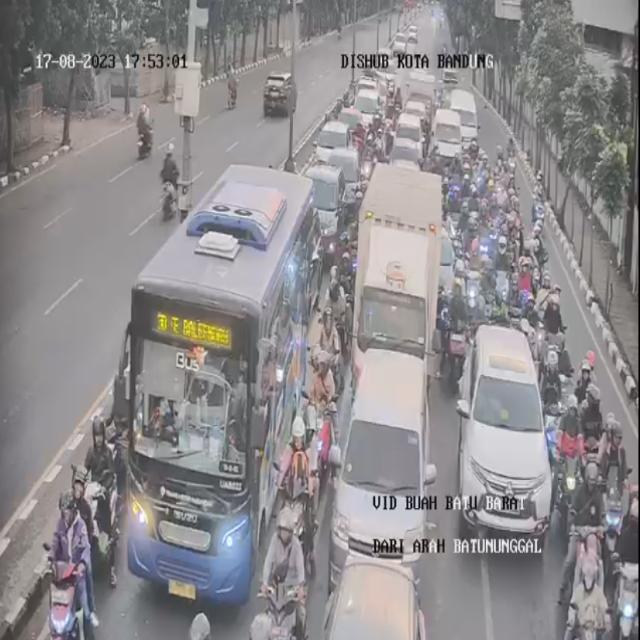bus: (126, 164, 315, 605)
cars: (326, 343, 441, 599), (456, 325, 552, 551), (322, 557, 427, 640), (306, 167, 353, 261), (437, 220, 461, 300), (434, 112, 464, 173), (375, 49, 401, 106), (452, 90, 477, 145), (325, 112, 353, 161), (358, 91, 386, 133), (392, 142, 423, 178), (401, 115, 422, 146), (392, 30, 404, 58), (408, 20, 420, 45)
motorcycle: (74, 409, 125, 575), (50, 468, 91, 640), (268, 435, 325, 547), (599, 406, 640, 542), (606, 483, 640, 640), (270, 507, 308, 640), (559, 560, 613, 640), (569, 469, 609, 562), (306, 353, 337, 468), (315, 303, 347, 399), (561, 386, 584, 508), (584, 374, 611, 446), (446, 276, 464, 374), (544, 349, 562, 433), (328, 277, 351, 342), (515, 284, 540, 342), (574, 344, 598, 401), (478, 213, 496, 273), (495, 241, 512, 302), (532, 168, 548, 232), (465, 237, 485, 288), (460, 160, 479, 212), (467, 289, 484, 347), (456, 206, 474, 256), (479, 278, 497, 327), (497, 212, 523, 245), (479, 181, 498, 221), (342, 238, 355, 296), (505, 124, 518, 182), (547, 289, 566, 327), (447, 174, 463, 218), (474, 146, 492, 182), (518, 249, 534, 287), (506, 187, 520, 221), (385, 101, 397, 131), (494, 147, 502, 182), (365, 132, 375, 160), (495, 181, 503, 215), (440, 41, 450, 58)
truck: (350, 158, 447, 379), (408, 72, 435, 134), (438, 56, 458, 92)
